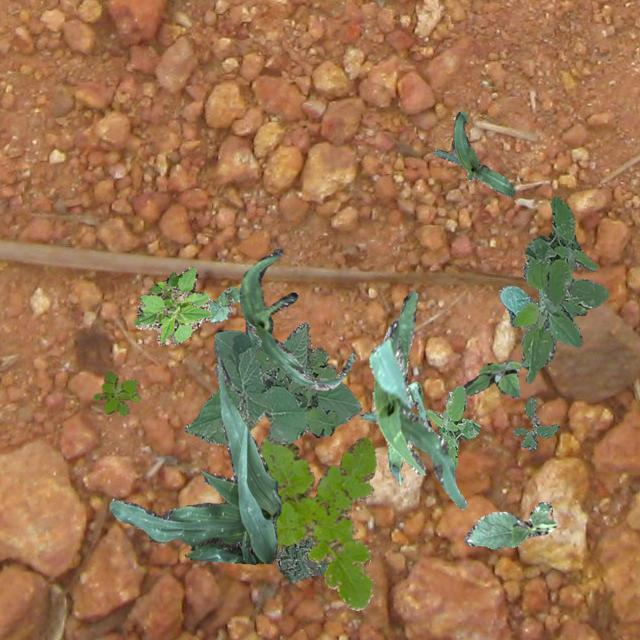crop: (108, 356, 280, 564), (184, 321, 360, 444), (368, 290, 466, 508), (238, 246, 354, 390), (498, 255, 608, 382), (358, 381, 431, 484), (432, 110, 514, 196), (464, 501, 556, 548), (207, 286, 240, 322)
weed: (258, 436, 376, 610), (524, 196, 596, 304), (255, 346, 338, 436), (132, 266, 210, 344), (424, 383, 480, 468), (512, 394, 558, 450), (274, 538, 328, 582), (92, 370, 140, 416), (462, 360, 520, 398)
